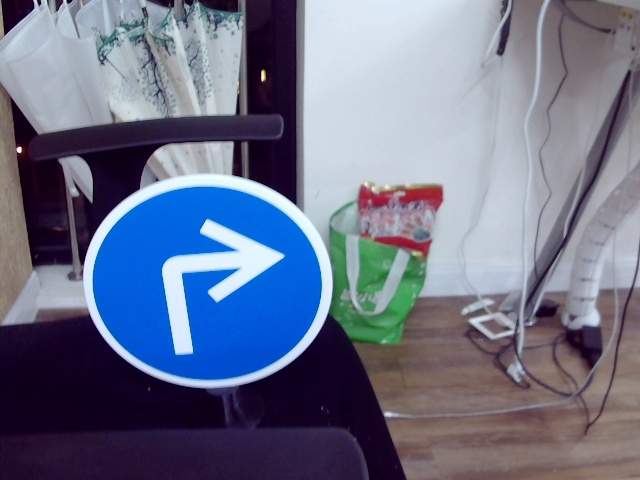turn_right: (149, 223, 289, 354)
